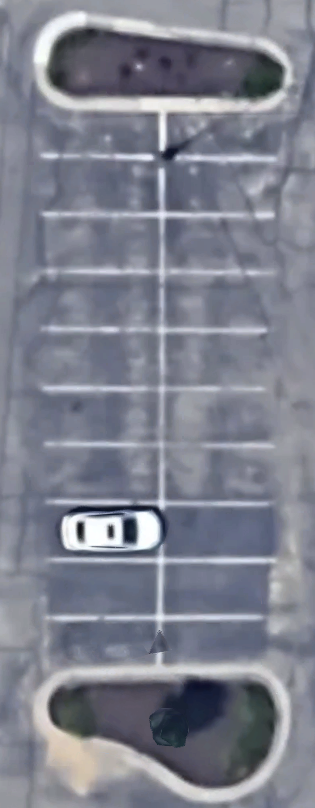Occupied: (40, 503, 161, 561)
Vacant: (40, 330, 162, 389), (40, 156, 163, 214), (41, 214, 162, 272), (40, 445, 163, 502), (39, 561, 159, 619), (41, 273, 162, 330), (161, 503, 277, 562), (162, 330, 276, 390), (162, 273, 276, 332), (40, 390, 163, 444), (160, 561, 276, 618), (163, 389, 276, 447), (163, 446, 276, 504), (162, 215, 276, 272), (42, 104, 162, 158), (162, 159, 276, 215), (159, 618, 277, 671), (39, 619, 159, 671), (163, 104, 276, 158)
